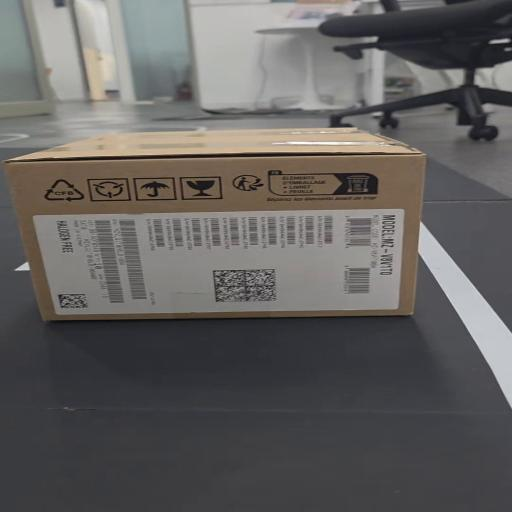Box: (6, 126, 466, 315)
